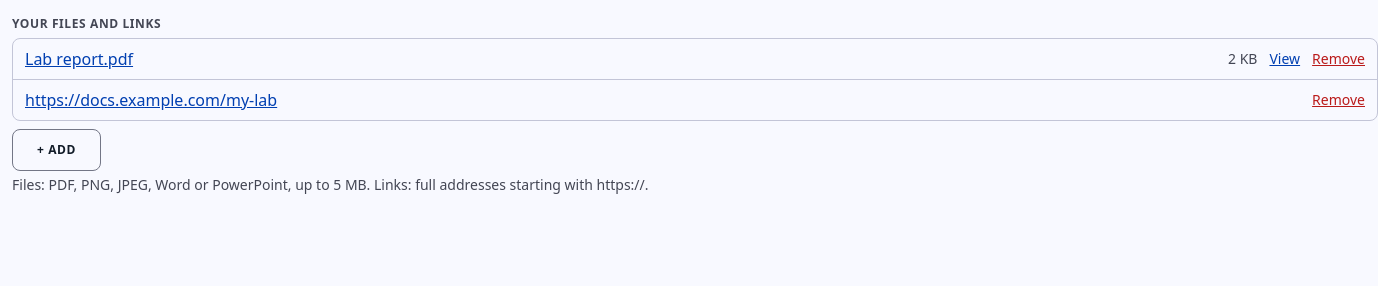
Test case: the "+ Add" menu › closes on a click elsewhere
Click the button "+ Add" at [56, 150], box [12, 129, 101, 171]
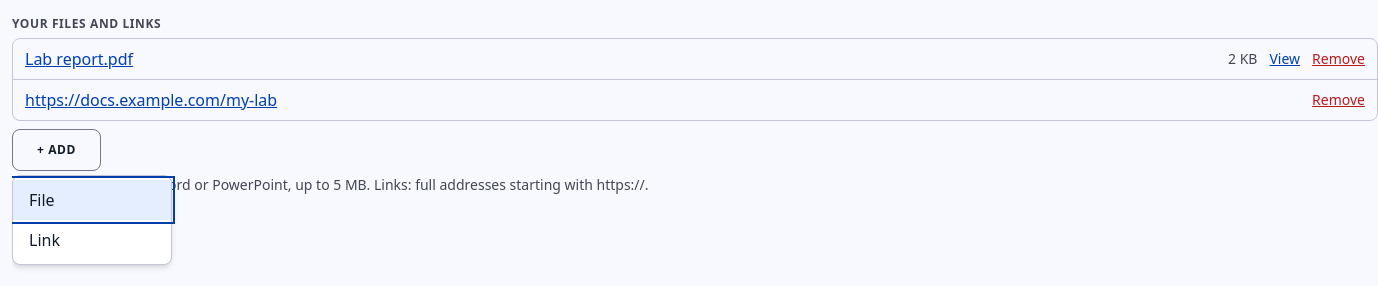
Expected: the menu is shown, [12, 175, 172, 265]
Press the mouse on the element that starts with "Your files and links" at [695, 106], box [12, 16, 1377, 195]
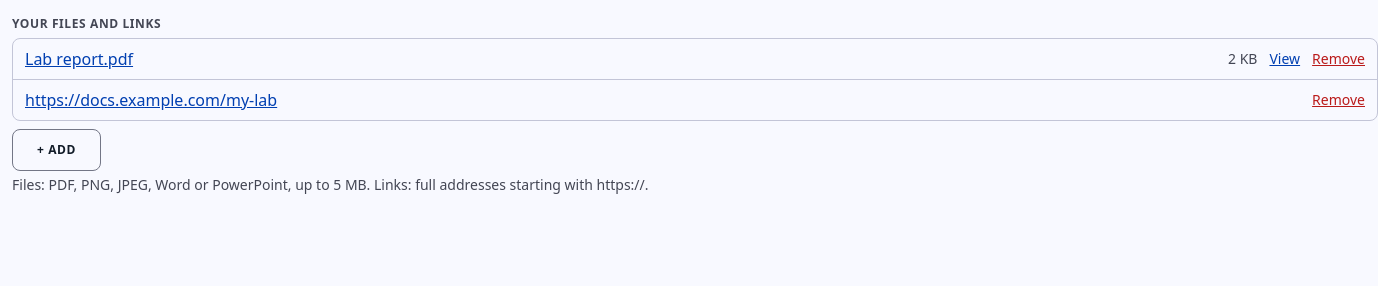
Expected: the menu is gone
